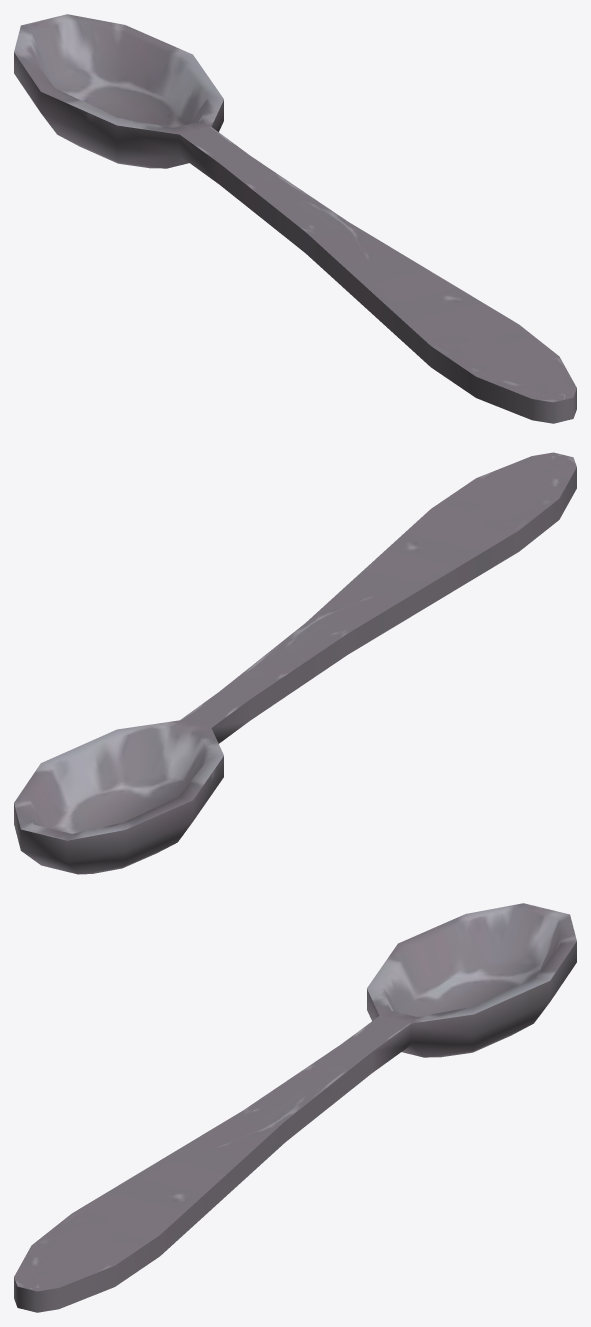
File: Table_Spoon.glb
3 renders of one model, top to bottom at view 1: azimuth 30°, elevation 25°; view 2: azimuth 150°, elevation 25°; view 3: azimuth 330°, elevation 25°, orthographic.
Visible parts, largest first — view 1: Table_Spoon; view 2: Table_Spoon; view 3: Table_Spoon.
Part boxes in pixels (<box>): Table_Spoon: <box>14,14,576,423</box>; Table_Spoon: <box>14,452,576,874</box>; Table_Spoon: <box>14,903,576,1312</box>.
Bounding box in the file's own units: 0.046 × 0.0182 × 0.2718.
1 material, 1 textured.
